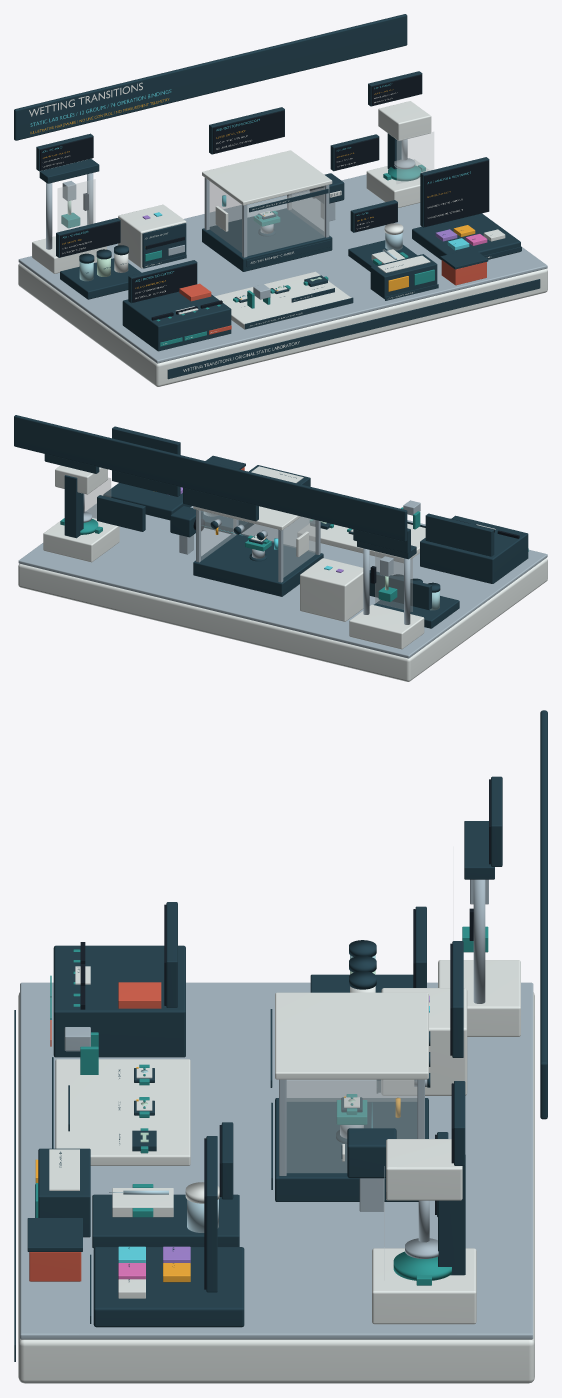
Rendered from wetting_lab.glb.
3 renders of one model, top to bottom at view 1: azimuth 30°, elevation 25°; view 2: azimuth 150°, elevation 25°; view 3: azimuth 270°, elevation 25°, orthographic. The views are drawn at different scales.
Visible parts, largest first — view 1: bench.top, lab.banner, bench.base, custody.rack, chamber.roof, chamber.base, bench.title.plate, chamber.closed_front_window, analysis.review.face, specimen.tray, analysis.base, bottom.focus.face (+27 smaller); view 2: bench.top, bench.base, lab.banner, chamber.base, custody.rack, patterning.body, mechanics.base, custody.age_label.body, rheology.base, analysis.review.body, analysis.base, specimen.tray (+20 smaller); view 3: bench.top, bench.base, chamber.roof, specimen.tray, custody.rack, analysis.base, chamber.side_window.001, chamber.base, rheology.base, dispense.waste_tray, rheology.head, mechanics.base (+23 smaller).
Boxes of the visible parts, box(x1,y1,x2,y2) form: bench.top: box(18, 174, 547, 363); lab.banner: box(14, 14, 407, 140); bench.base: box(18, 263, 547, 386); custody.rack: box(122, 291, 231, 351); chamber.roof: box(202, 150, 332, 205); chamber.base: box(202, 208, 332, 271); bench.title.plate: box(167, 279, 540, 379); chamber.closed_front_window: box(247, 187, 324, 255); analysis.review.face: box(424, 160, 488, 226); specimen.tray: box(214, 271, 350, 329); analysis.base: box(412, 213, 520, 259); bottom.focus.face: box(212, 110, 284, 153); bench.top: box(18, 503, 547, 658); bench.base: box(18, 558, 547, 681); lab.banner: box(14, 415, 407, 541); chamber.base: box(193, 533, 323, 596); custody.rack: box(420, 515, 528, 583); patterning.body: box(300, 558, 363, 621); mechanics.base: box(349, 604, 424, 649); custody.age_label.body: box(425, 513, 494, 556); rheology.base: box(43, 518, 119, 562); analysis.review.body: box(112, 426, 180, 496); analysis.base: box(103, 483, 191, 520); specimen.tray: box(297, 523, 425, 563); bench.top: box(20, 982, 533, 1339); bench.base: box(18, 992, 534, 1383); chamber.roof: box(275, 992, 428, 1079); specimen.tray: box(55, 1059, 190, 1165); custody.rack: box(53, 945, 185, 1057); analysis.base: box(93, 1247, 244, 1327); chamber.side_window.001: box(287, 1081, 416, 1172); chamber.base: box(275, 1098, 428, 1201); rheology.base: box(372, 1248, 476, 1324); dispense.waste_tray: box(92, 1194, 239, 1248); rheology.head: box(386, 1139, 462, 1200); mechanics.base: box(438, 960, 520, 1036).
Size of the model in its own units: 2.72 by 1.17 by 1.74.
